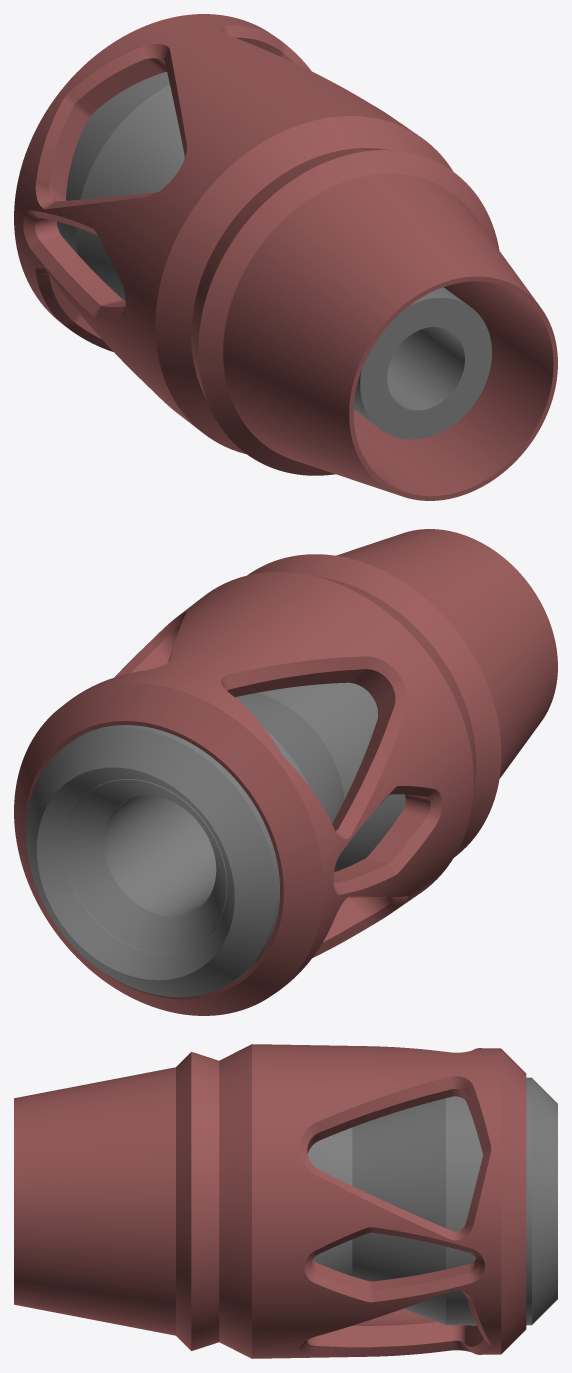
3 views of the same model, one above another, from view 1: azimuth 30°, elevation 25°; view 2: azimuth 150°, elevation 25°; view 3: azimuth 270°, elevation 25° (orthographic). The views are drawn at different scales.
Visible parts, largest first — view 1: test; view 2: test; view 3: test.
Boxes of the visible parts, bbox=[...] form: test: bbox=[14, 14, 557, 500]; test: bbox=[14, 529, 557, 1015]; test: bbox=[14, 1044, 557, 1358].
Size of the model in its own units: 0.43 by 0.43 by 0.7433.
